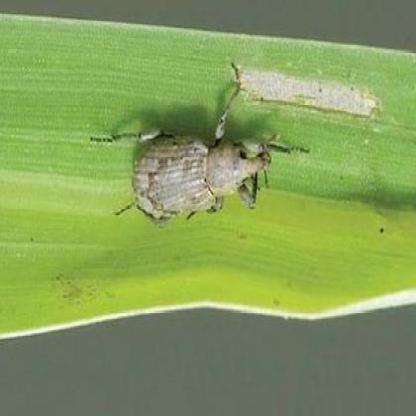rice-bug: (112, 87, 281, 236)
